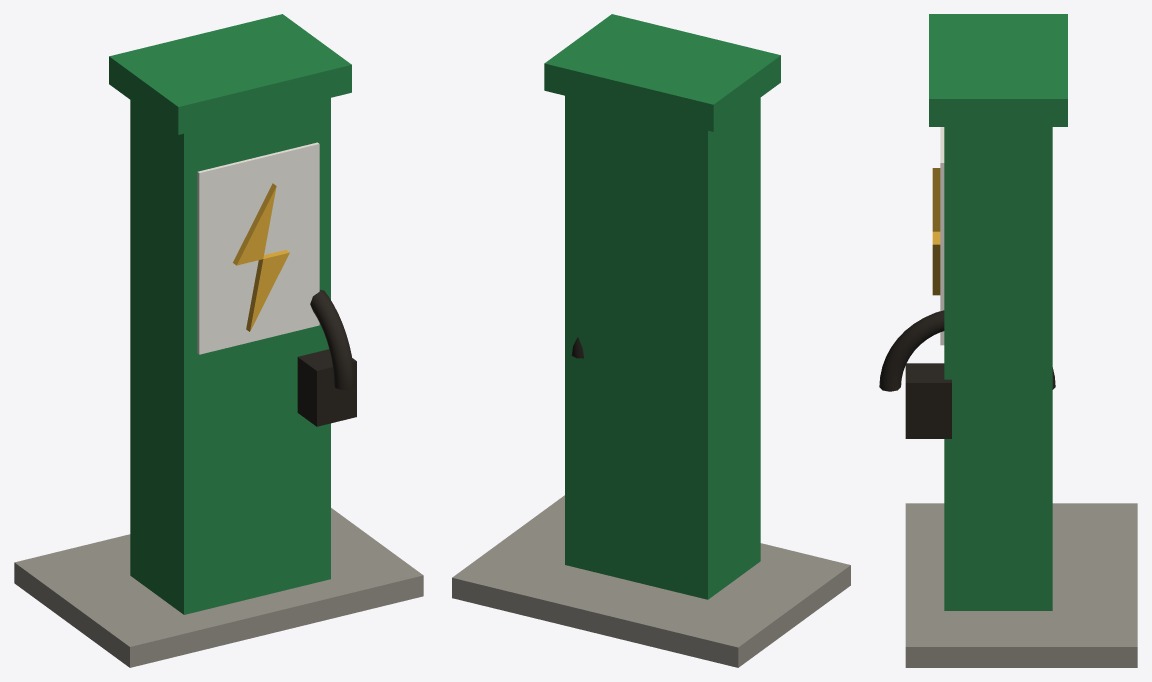
The model's file is charging-post.glb.
The picture shows the model from 3 angles, left to right: view 1: azimuth 30°, elevation 25°; view 2: azimuth 150°, elevation 25°; view 3: azimuth 270°, elevation 25°; orthographic projection. The views are drawn at different scales.
Parts seen in each view (by area): view 1: green, stone, white, black, yellow; view 2: green, stone; view 3: green, stone, black, yellow, white.
Boxes of the visible parts, <box> form: green: <box>109,14,351,614</box>; stone: <box>14,508,423,667</box>; white: <box>197,142,319,354</box>; black: <box>297,289,356,426</box>; yellow: <box>233,183,289,331</box>; green: <box>544,14,780,599</box>; stone: <box>452,495,850,667</box>; green: <box>929,14,1067,610</box>; stone: <box>905,503,1137,667</box>; black: <box>879,310,1055,438</box>; yellow: <box>932,168,940,295</box>; white: <box>940,127,944,345</box>.
Bounding box in the file's own units: 44 × 77 × 33.4.
